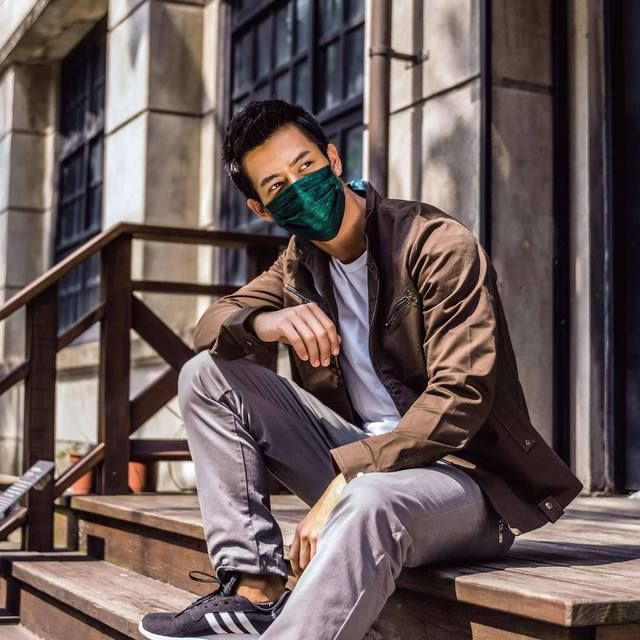mask: (264, 172, 349, 244)
